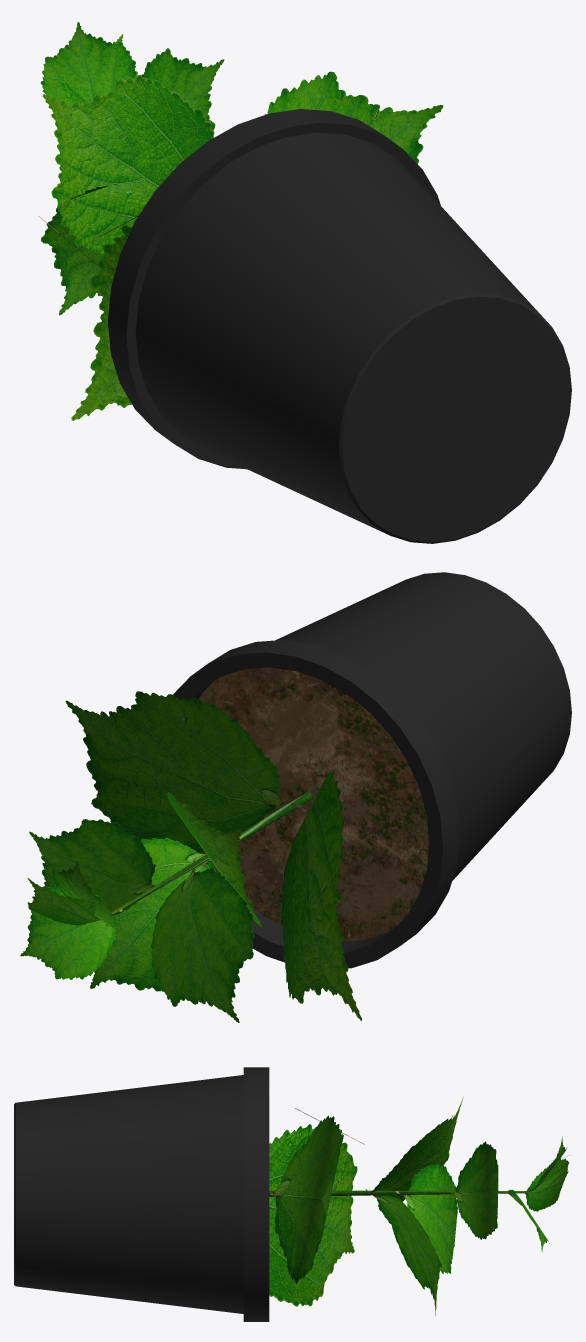
The model's file is Garden.glb.
3 renders of one model, top to bottom at view 1: azimuth 30°, elevation 25°; view 2: azimuth 150°, elevation 25°; view 3: azimuth 270°, elevation 25°, orthographic. The views are drawn at different scales.
Visible parts, largest first — view 1: Pots_Small.014_Plants_0; view 2: Pots_Small.014_Plants_0; view 3: Pots_Small.014_Plants_0.
Part boxes in pixels (x1=…): Pots_Small.014_Plants_0: x1=38, y1=22, x2=571, y2=543; Pots_Small.014_Plants_0: x1=20, y1=572, x2=571, y2=1022; Pots_Small.014_Plants_0: x1=14, y1=1067, x2=569, y2=1321.
Size of the model in its own units: 0.0835 by 0.0734 by 0.151.
Materials: 1 (1 with a texture image).
